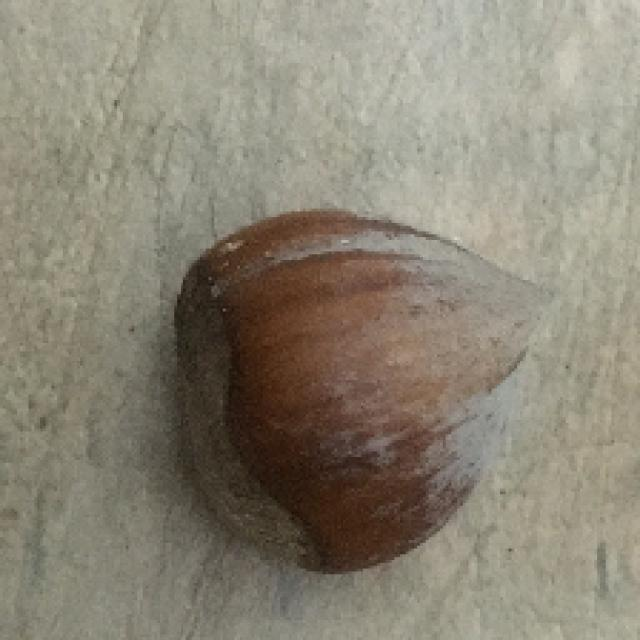qualityHazelnut: (154, 203, 564, 568)
